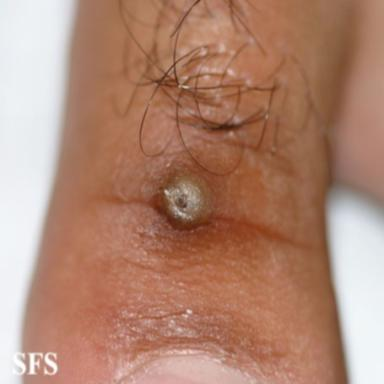Tungiasis: (157, 175, 211, 229)
